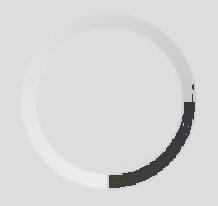ProgressBar: (1, 1, 217, 205)
